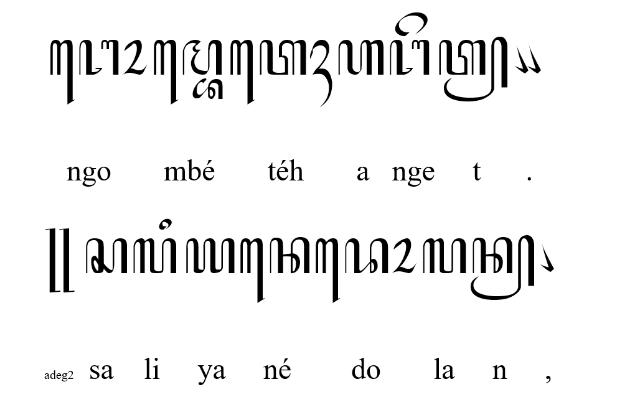-n: (470, 234, 534, 299)
-t: (438, 36, 508, 102)
_b: (192, 78, 222, 100)
_h1: (310, 38, 332, 107)
adeg2: (45, 228, 75, 292)
d: (344, 237, 390, 275)
e: (394, 11, 428, 37)
e1: (153, 39, 179, 105), (239, 238, 265, 304), (50, 39, 74, 105), (230, 40, 254, 106), (316, 238, 340, 304)
h: (338, 40, 384, 77)
i: (159, 217, 173, 231)
kom: (538, 244, 554, 272), (515, 44, 529, 74), (527, 44, 541, 74)
l: (132, 238, 178, 274), (424, 238, 466, 274)
m: (182, 40, 222, 77)
n: (270, 237, 310, 275)
nga: (78, 38, 120, 76), (388, 38, 429, 76)
o: (122, 39, 148, 75), (392, 238, 416, 274)
s: (86, 238, 128, 274)
t: (259, 39, 307, 75)
y: (186, 238, 236, 274)
